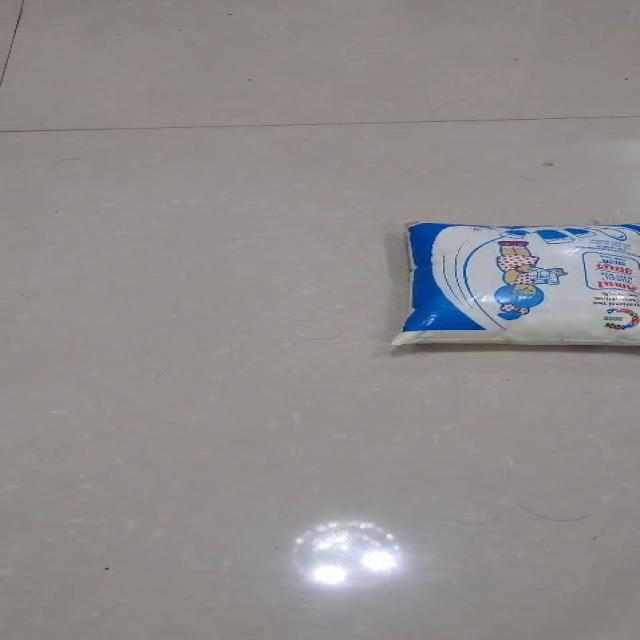plastic: (388, 219, 639, 347)
